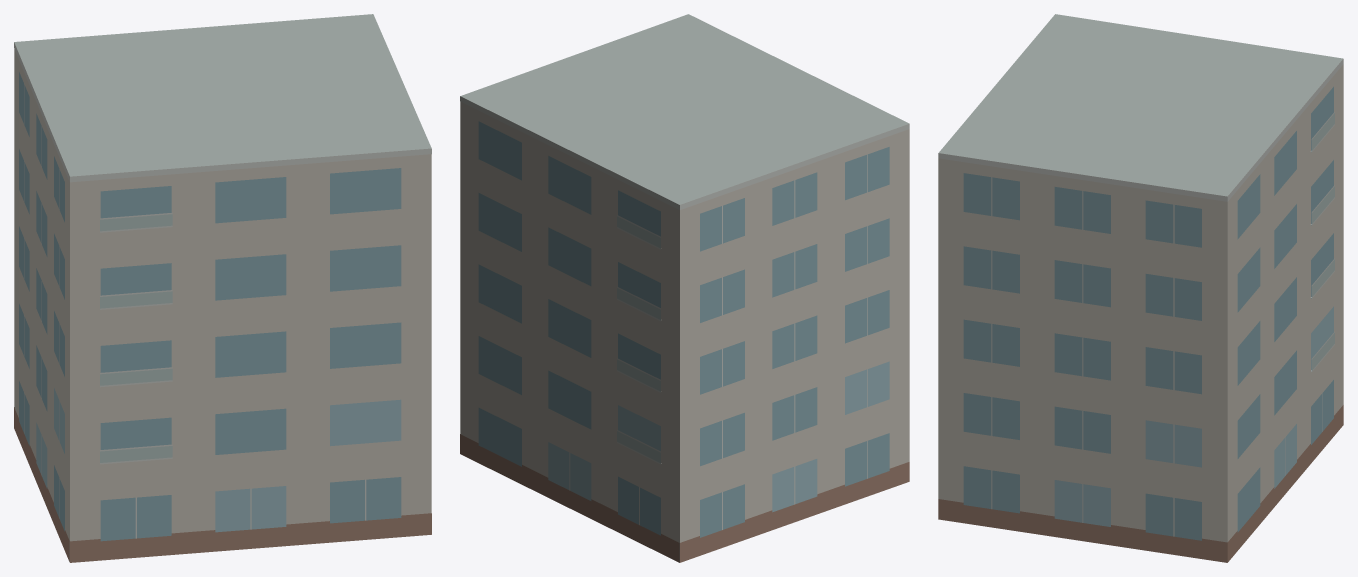
The model's file is survey-upis-33039128.glb.
The picture shows the model from 3 angles, left to right: view 1: azimuth 30°, elevation 25°; view 2: azimuth 150°, elevation 25°; view 3: azimuth 270°, elevation 25°; orthographic projection. The views are drawn at different scales.
Parts seen in each view (by area): view 1: survey-upis-33039128.tmp; view 2: survey-upis-33039128.tmp; view 3: survey-upis-33039128.tmp.
Part boxes in pixels (x1,y1,x2,y2): survey-upis-33039128.tmp: [14, 14, 431, 562]; survey-upis-33039128.tmp: [460, 14, 909, 562]; survey-upis-33039128.tmp: [938, 14, 1343, 562].
Bounding box in the file's own units: 17.74 × 16.6 × 16.65.
